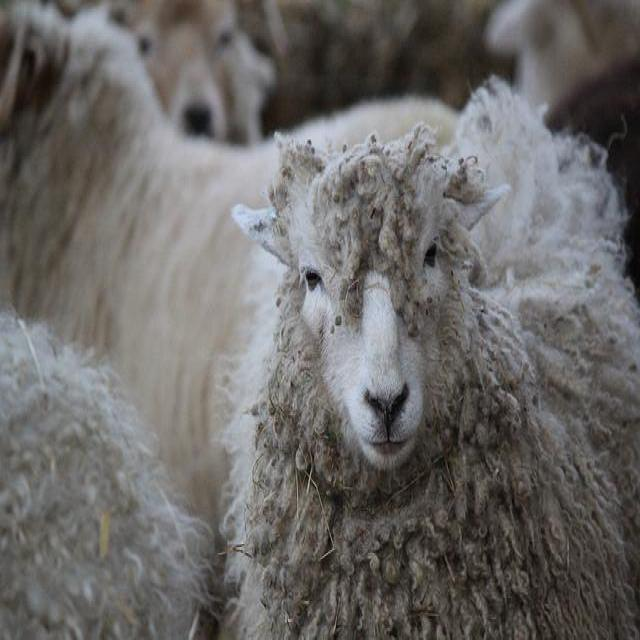Sheep: (1, 9, 457, 630), (226, 79, 639, 631), (0, 307, 217, 634), (76, 3, 275, 147)
